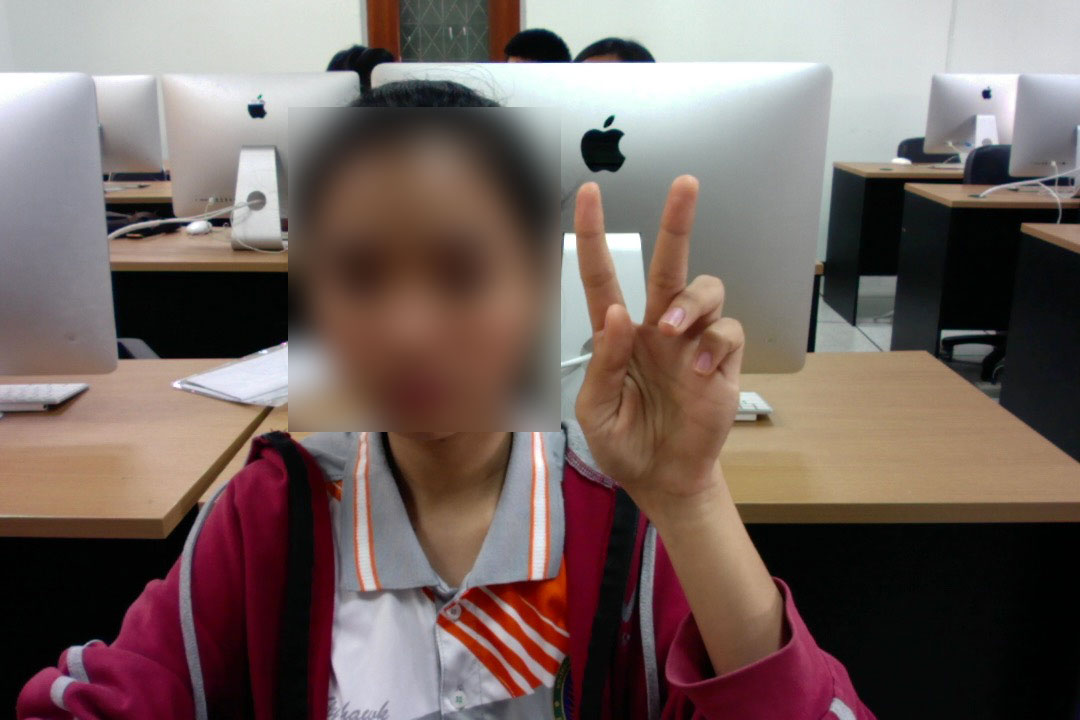ko: (560, 167, 753, 516)
